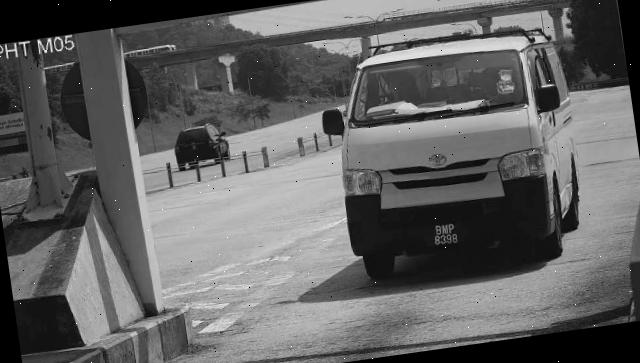License_Plate: (420, 215, 475, 254)
van: (326, 22, 592, 286)
